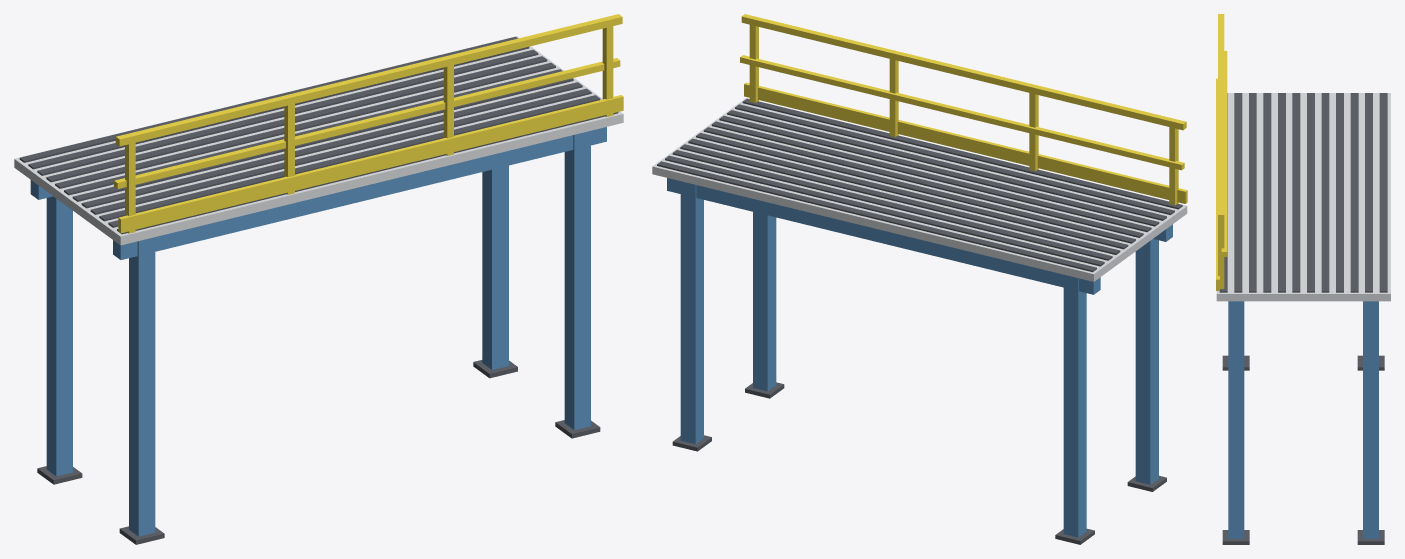
Rendered from mezzanine-walkway-bay.glb.
The picture shows the model from 3 angles, left to right: view 1: azimuth 30°, elevation 25°; view 2: azimuth 150°, elevation 25°; view 3: azimuth 270°, elevation 25°; orthographic projection. The views are drawn at different scales.
Parts seen in each view (by area): view 1: mezzanine-walkway-bay; view 2: mezzanine-walkway-bay; view 3: mezzanine-walkway-bay.
Part boxes in pixels (<box>): mezzanine-walkway-bay: <box>14,14,623,544</box>; mezzanine-walkway-bay: <box>652,14,1187,544</box>; mezzanine-walkway-bay: <box>1216,14,1390,544</box>.
Size of the model in its own units: 6 by 4.7 by 2.2.
